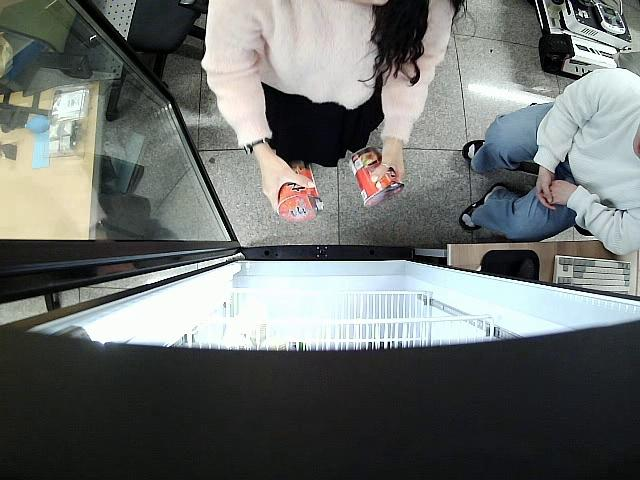00_hand: (256, 148, 316, 209), (371, 139, 405, 184)
02_shinRamen_S: (349, 147, 404, 209), (275, 162, 324, 221)
